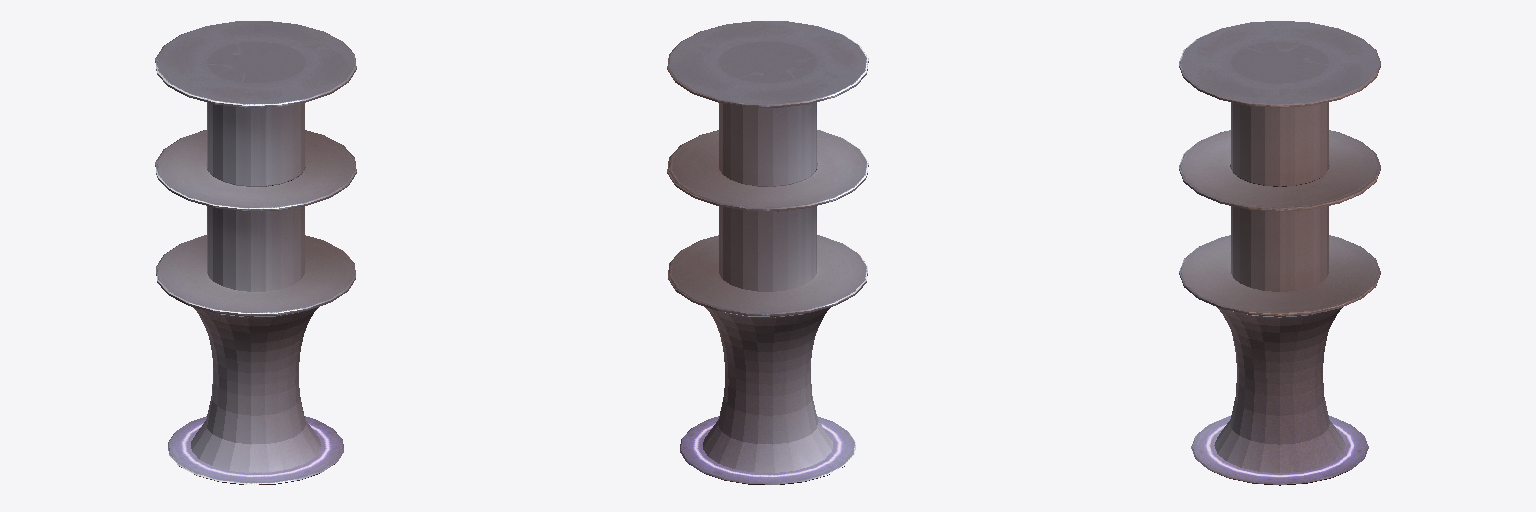
3 views of the same model, side by side, from view 1: azimuth 30°, elevation 25°; view 2: azimuth 150°, elevation 25°; view 3: azimuth 270°, elevation 25° (orthographic).
Visible parts, largest first — view 1: barcenter; view 2: barcenter; view 3: barcenter.
Boxes of the visible parts, <box> form: barcenter: <box>155,21,356,484</box>; barcenter: <box>667,21,868,484</box>; barcenter: <box>1179,21,1380,485</box>.
Size of the model in its own units: 1.02 by 2.14 by 1.02.
Materials: 1 (1 with a texture image).